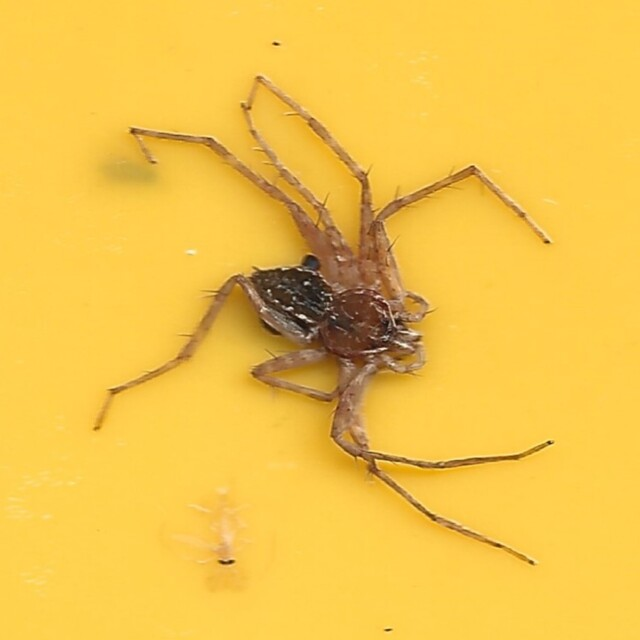Araneae: (86, 74, 554, 566)
